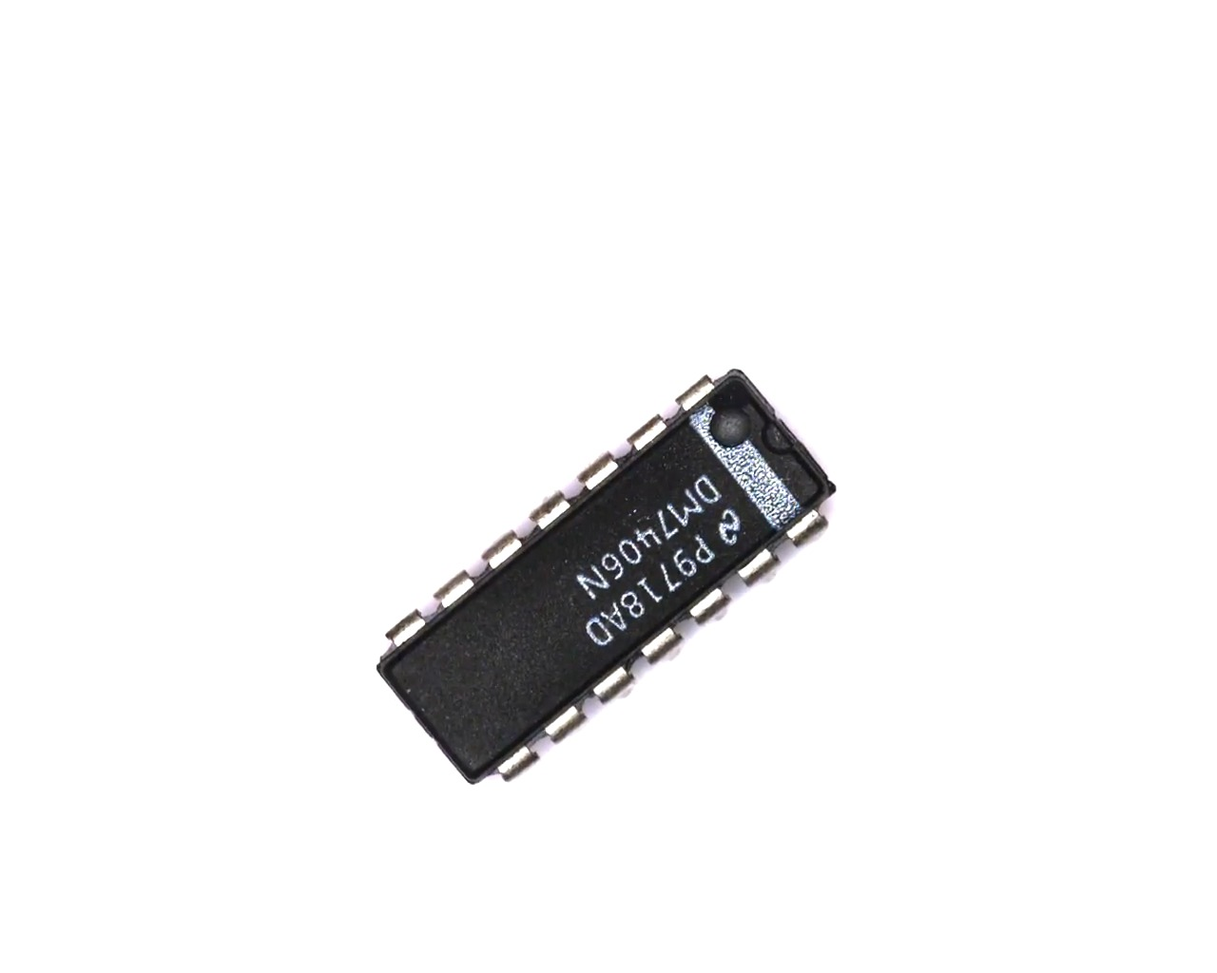IC: (348, 336, 876, 818)
notch: (757, 410, 800, 459)
